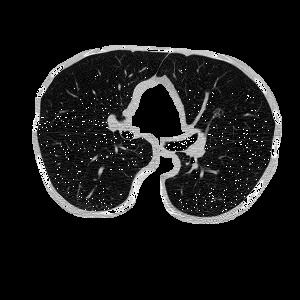PN: (213, 108, 223, 118)
